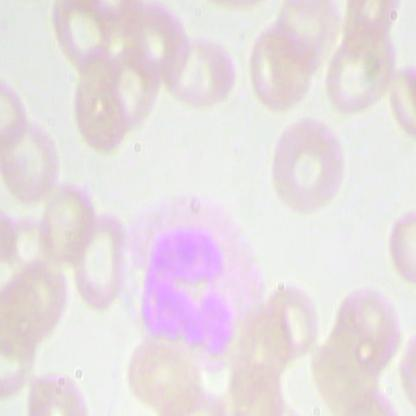RBC: (270, 117, 353, 219), (244, 18, 322, 118), (319, 16, 397, 116), (70, 208, 130, 311), (158, 32, 238, 108), (47, 0, 118, 75), (1, 119, 60, 205), (384, 202, 416, 286)
WBC: (114, 182, 268, 374)
